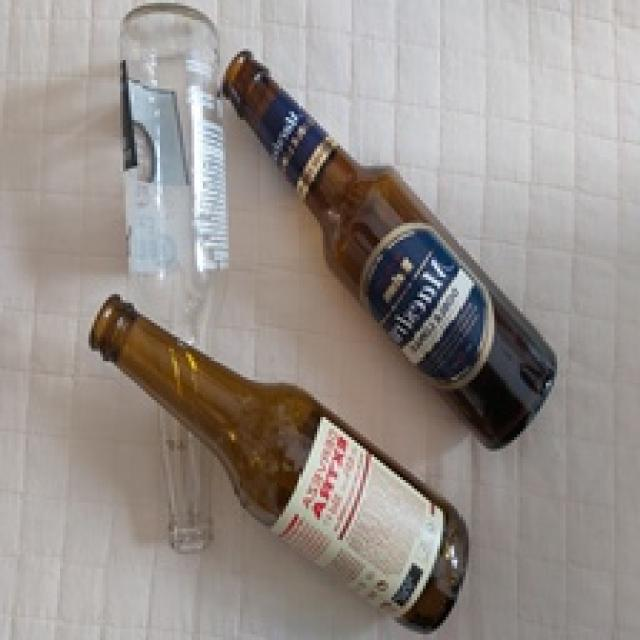glass: (220, 49, 560, 454), (84, 291, 470, 640), (118, 0, 223, 557)
